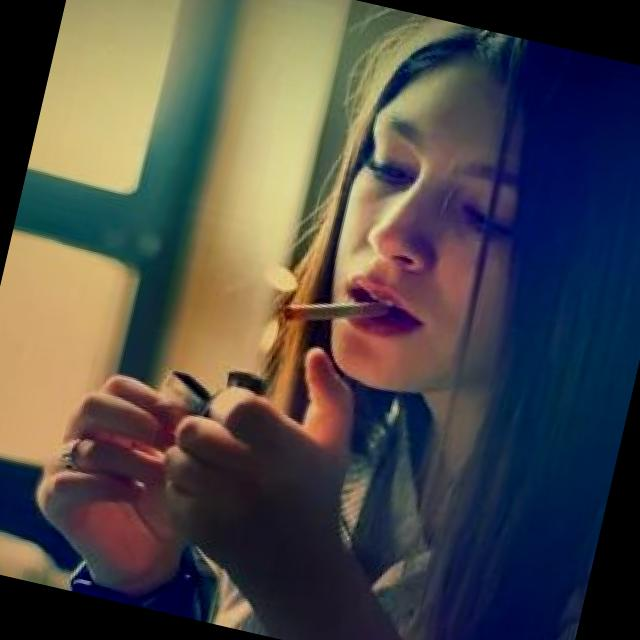smoke: (268, 270, 398, 350)
